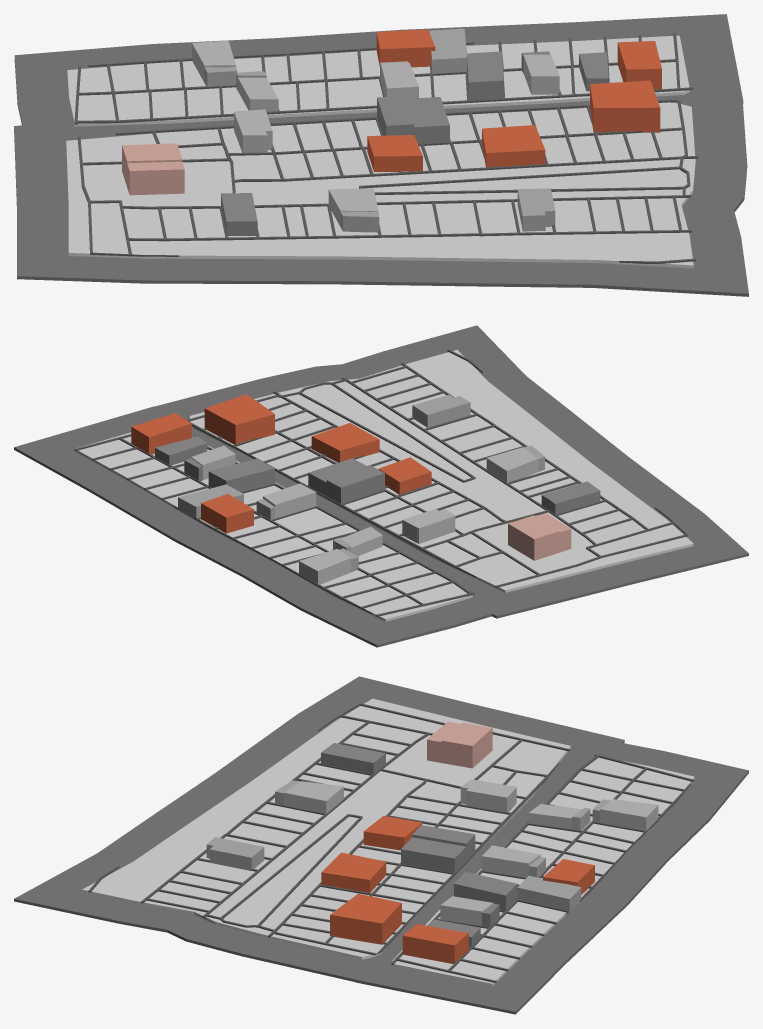
The model's file is manzana_a.glb.
3 views of the same model, one above another, from view 1: azimuth 30°, elevation 25°; view 2: azimuth 150°, elevation 25°; view 3: azimuth 270°, elevation 25° (orthographic). The views are drawn at different scales.
Visible parts, largest first — view 1: geometry_0; view 2: geometry_0; view 3: geometry_0.
Part boxes in pixels (bbox=[...]): geometry_0: bbox=[14, 14, 748, 296]; geometry_0: bbox=[14, 325, 748, 647]; geometry_0: bbox=[14, 676, 748, 1014].
Size of the model in its own units: 0.403 by 0.0156 by 0.3731.
